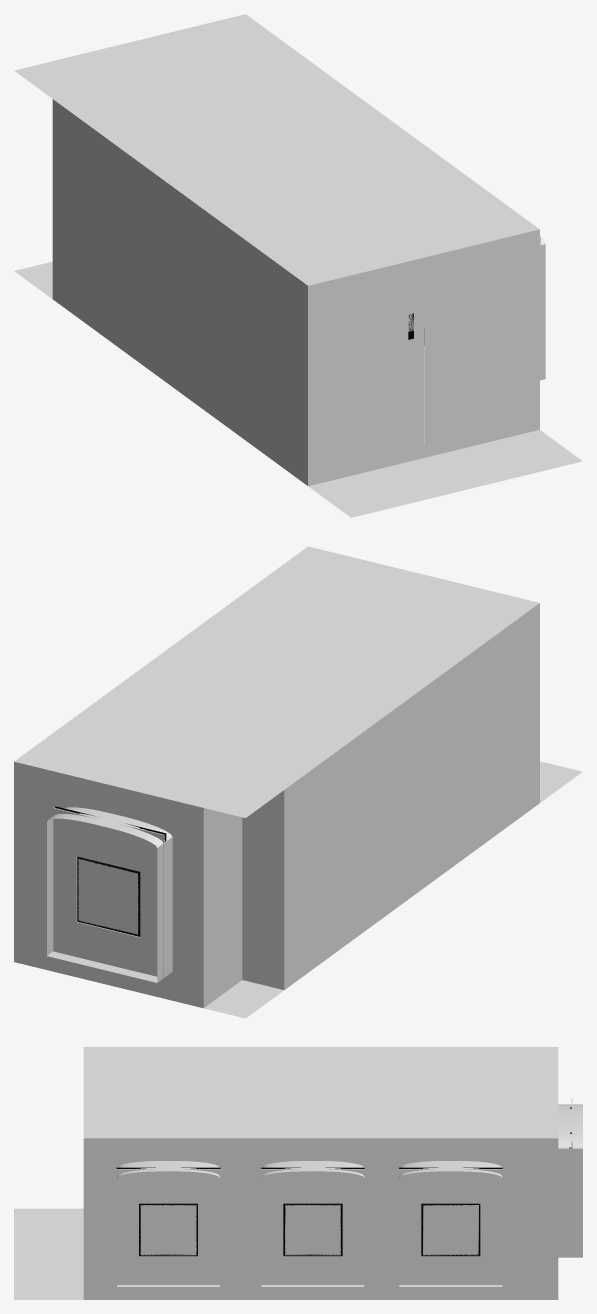
Rendered from laboratory.fbx.
The picture shows the model from 3 angles, top to bottom: view 1: azimuth 30°, elevation 25°; view 2: azimuth 150°, elevation 25°; view 3: azimuth 270°, elevation 25°; orthographic projection. The views are drawn at different scales.
Visible parts, largest first — view 1: ceiling, walls, wall_door, door_sd, floor; view 2: walls, ceiling, window-frame, window, floor; view 3: walls, ceiling, window-frame.004, window-frame.002, window-frame.003, floor, window.002, window.003, window.004.
Part boxes in pixels (bbox=[...]): ceiling: bbox=[14, 14, 539, 285]; walls: bbox=[52, 99, 545, 485]; wall_door: bbox=[308, 229, 539, 486]; door_sd: bbox=[314, 328, 424, 471]; floor: bbox=[14, 261, 582, 517]; walls: bbox=[14, 603, 539, 1008]; ceiling: bbox=[14, 546, 539, 817]; window-frame: bbox=[53, 806, 166, 977]; window: bbox=[77, 858, 140, 935]; floor: bbox=[204, 761, 582, 1018]; walls: bbox=[83, 1104, 582, 1299]; ceiling: bbox=[83, 1047, 558, 1138]; window-frame.004: bbox=[116, 1167, 220, 1284]; window-frame.002: bbox=[399, 1167, 502, 1284]; window-frame.003: bbox=[261, 1167, 364, 1284]; floor: bbox=[14, 1208, 83, 1299]; window.002: bbox=[422, 1203, 479, 1255]; window.003: bbox=[284, 1203, 341, 1255]; window.004: bbox=[140, 1203, 196, 1255].
Size of the model in its own units: 6.24 by 4.63 by 14.76.
